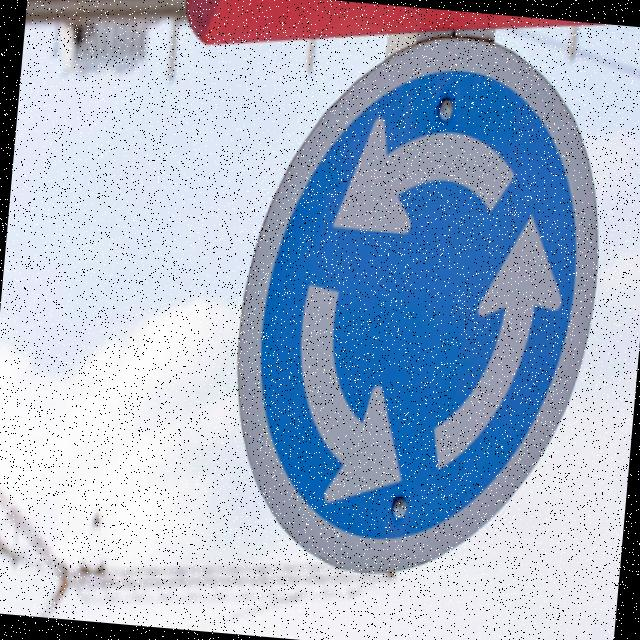round_about: (222, 32, 613, 610)
